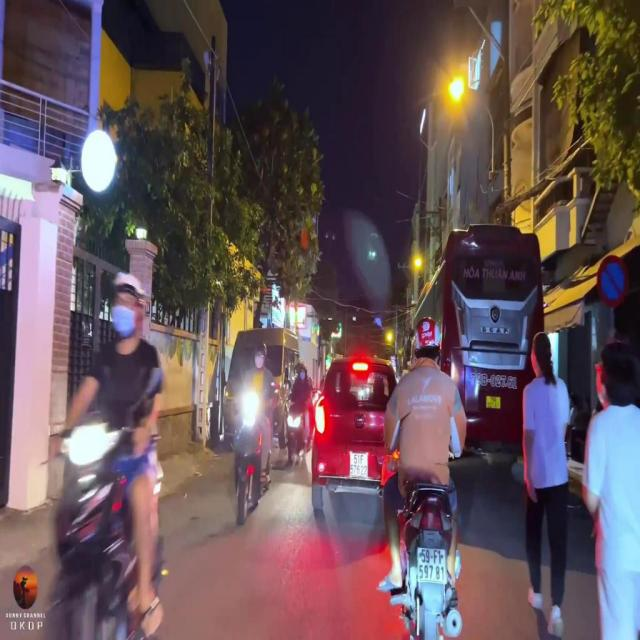cam_do_xe: (597, 256, 627, 310)
